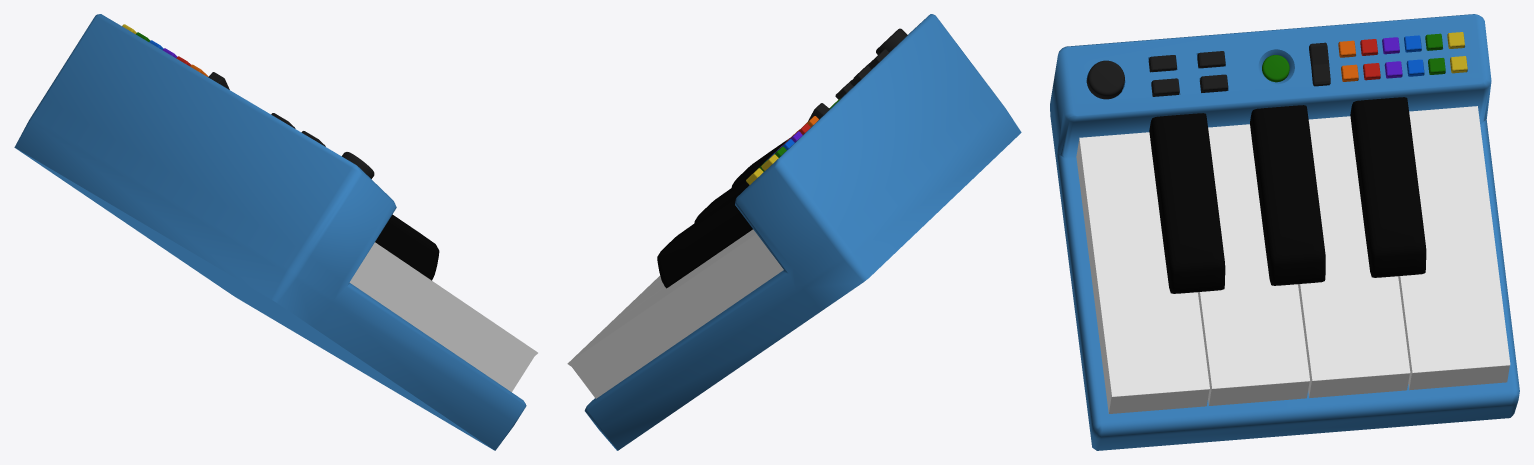
The model's file is piano.glb.
3 renders of one model, left to right at view 1: azimuth 30°, elevation 25°; view 2: azimuth 150°, elevation 25°; view 3: azimuth 270°, elevation 25°, orthographic. The views are drawn at different scales.
Parts seen in each view (by area): view 1: Cube_2, Cube.004_1, Cube.006_4, Cube.012_3; view 2: Cube_2, Cube.004_1, Cube.006_4, Cube.012_3; view 3: Cube.004_1, Cube_2, Cube.006_4, Cube.012_3.
Boxes of the visible parts, left/top/right/bottom form: Cube_2: left=14, top=14, right=526, bottom=450; Cube.004_1: left=349, top=242, right=537, bottom=392; Cube.006_4: left=375, top=214, right=439, bottom=280; Cube.012_3: left=122, top=24, right=374, bottom=178; Cube_2: left=584, top=14, right=1021, bottom=450; Cube.004_1: left=567, top=229, right=783, bottom=398; Cube.006_4: left=657, top=138, right=789, bottom=288; Cube.012_3: left=746, top=28, right=907, bottom=184; Cube.004_1: left=1076, top=106, right=1510, bottom=413; Cube_2: left=1050, top=14, right=1519, bottom=450; Cube.006_4: left=1149, top=97, right=1426, bottom=293; Cube.012_3: left=1086, top=32, right=1467, bottom=99.
Bounding box in the file's own units: 2.19 × 2.1 × 2.64.
